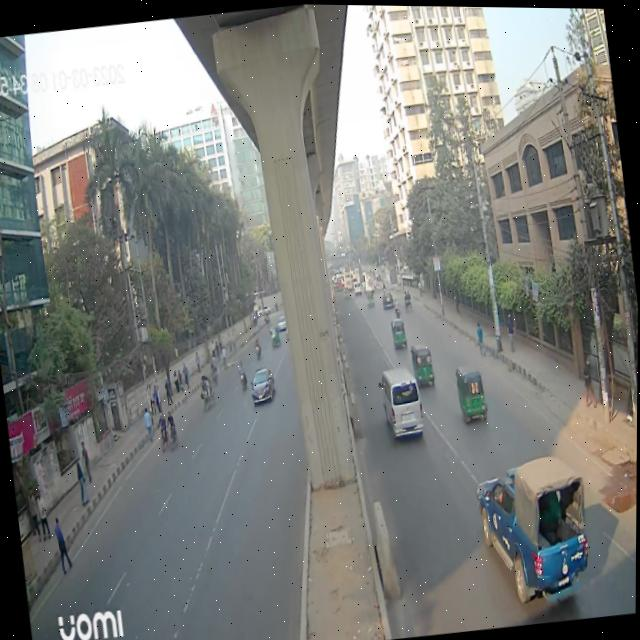cng: (453, 355, 489, 428), (407, 334, 439, 393), (386, 312, 410, 354), (267, 322, 281, 348)
rikshaw: (196, 368, 216, 415)
